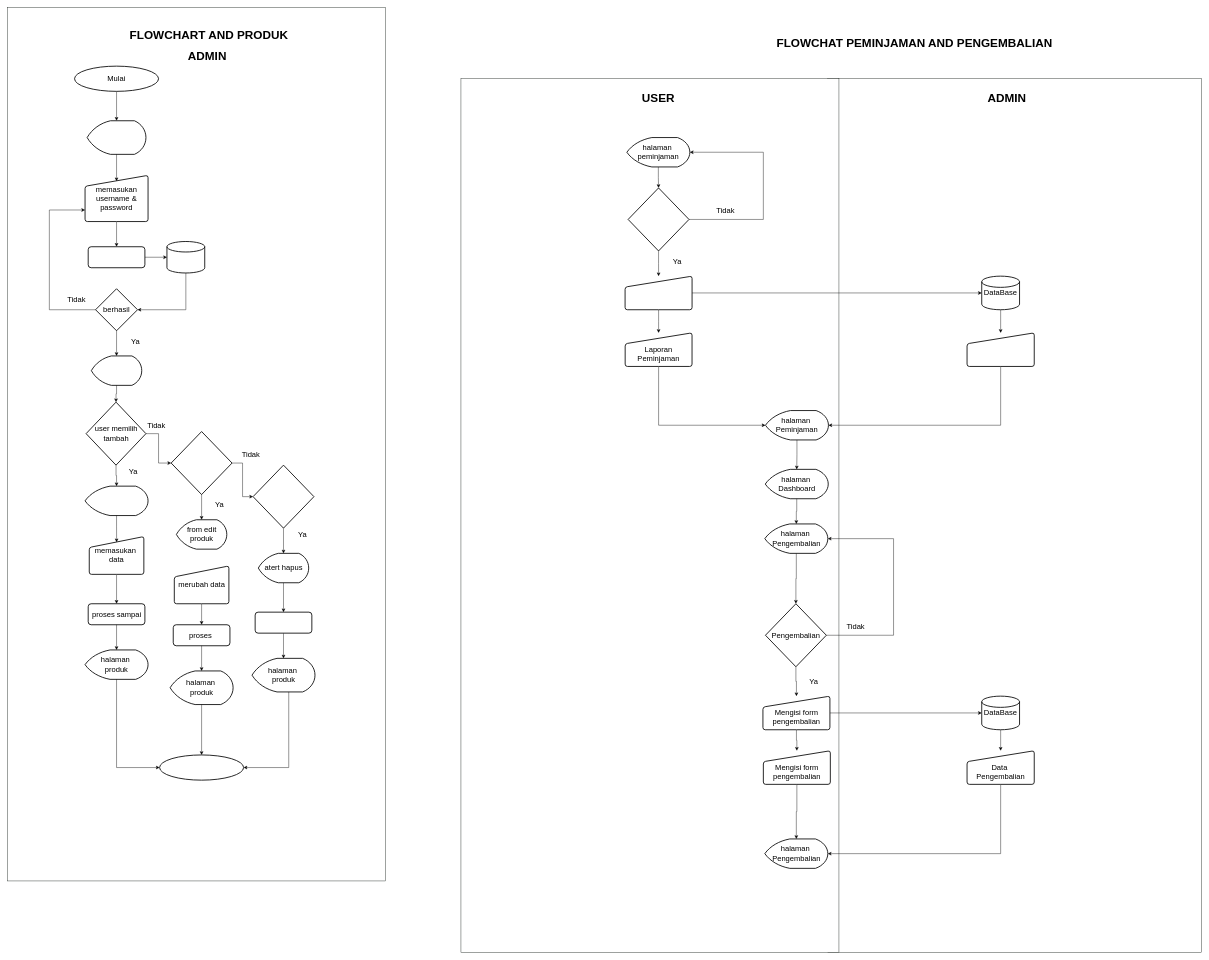
The diagram is 1209 pixels wide and 960 high, and some of its shapes have lost their labels. Here are the shapes that lost their labels. From the top down, the centre of each, then its label:
the point at 116,137: login
the point at 658,219: Peminjaman
the point at 116,257: Verifikasi
the point at 185,257: data base
the point at 658,293: Mengisi form peminjaman
the point at 1000,349: Data Peminjaman
the point at 116,370: dasboard
the point at 201,463: edit produk?
the point at 116,501: from input produk
the point at 283,496: hapus
the point at 283,622: proses hapus
the point at 201,767: selesai
